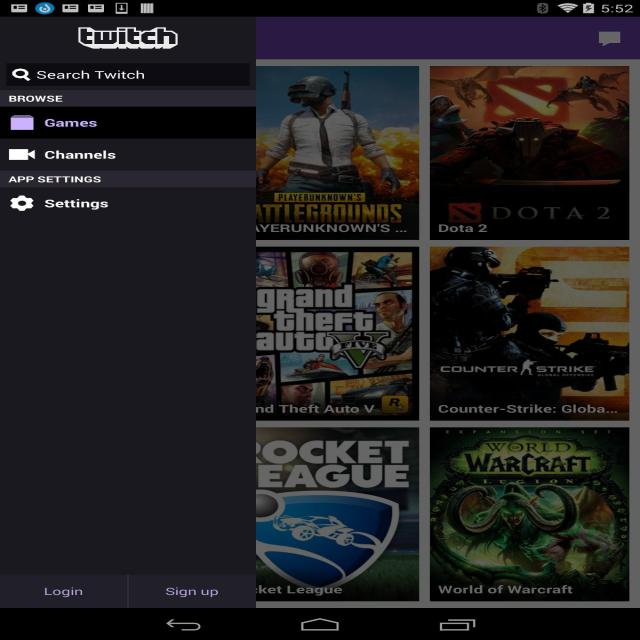button: (218, 245, 417, 422), (430, 64, 629, 241), (220, 66, 419, 239), (432, 246, 629, 420), (431, 427, 629, 600), (220, 428, 416, 601), (3, 106, 254, 140), (4, 141, 252, 171), (3, 190, 254, 216), (128, 576, 255, 608), (1, 575, 126, 607), (595, 22, 629, 54)
field: (3, 66, 249, 86)
heading: (7, 173, 105, 185), (7, 94, 62, 104)
image: (220, 247, 414, 420), (433, 248, 628, 420), (434, 428, 627, 600), (434, 66, 626, 238), (223, 430, 416, 600), (224, 68, 414, 238), (77, 27, 179, 50), (6, 114, 37, 132), (7, 147, 37, 162), (10, 194, 35, 212)
label: (33, 69, 147, 82)
text: (230, 220, 410, 234), (435, 584, 578, 598), (435, 405, 623, 415), (231, 404, 387, 414), (231, 585, 352, 596), (45, 148, 117, 162), (41, 196, 110, 210), (437, 223, 494, 236), (42, 117, 101, 129)
